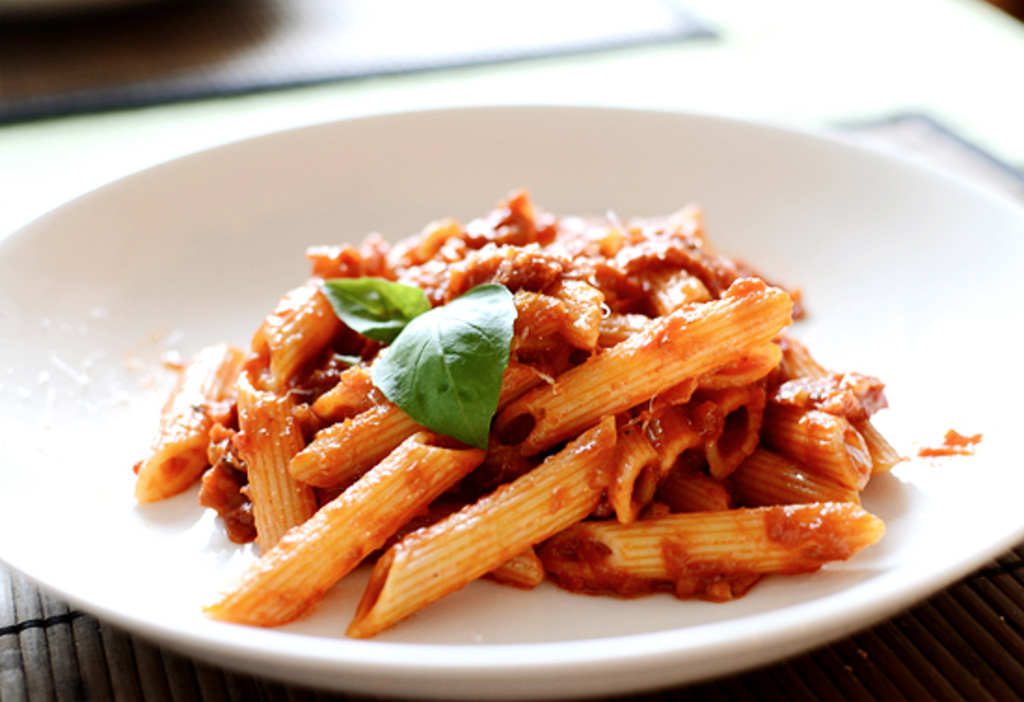pasta: (166, 128, 890, 620)
